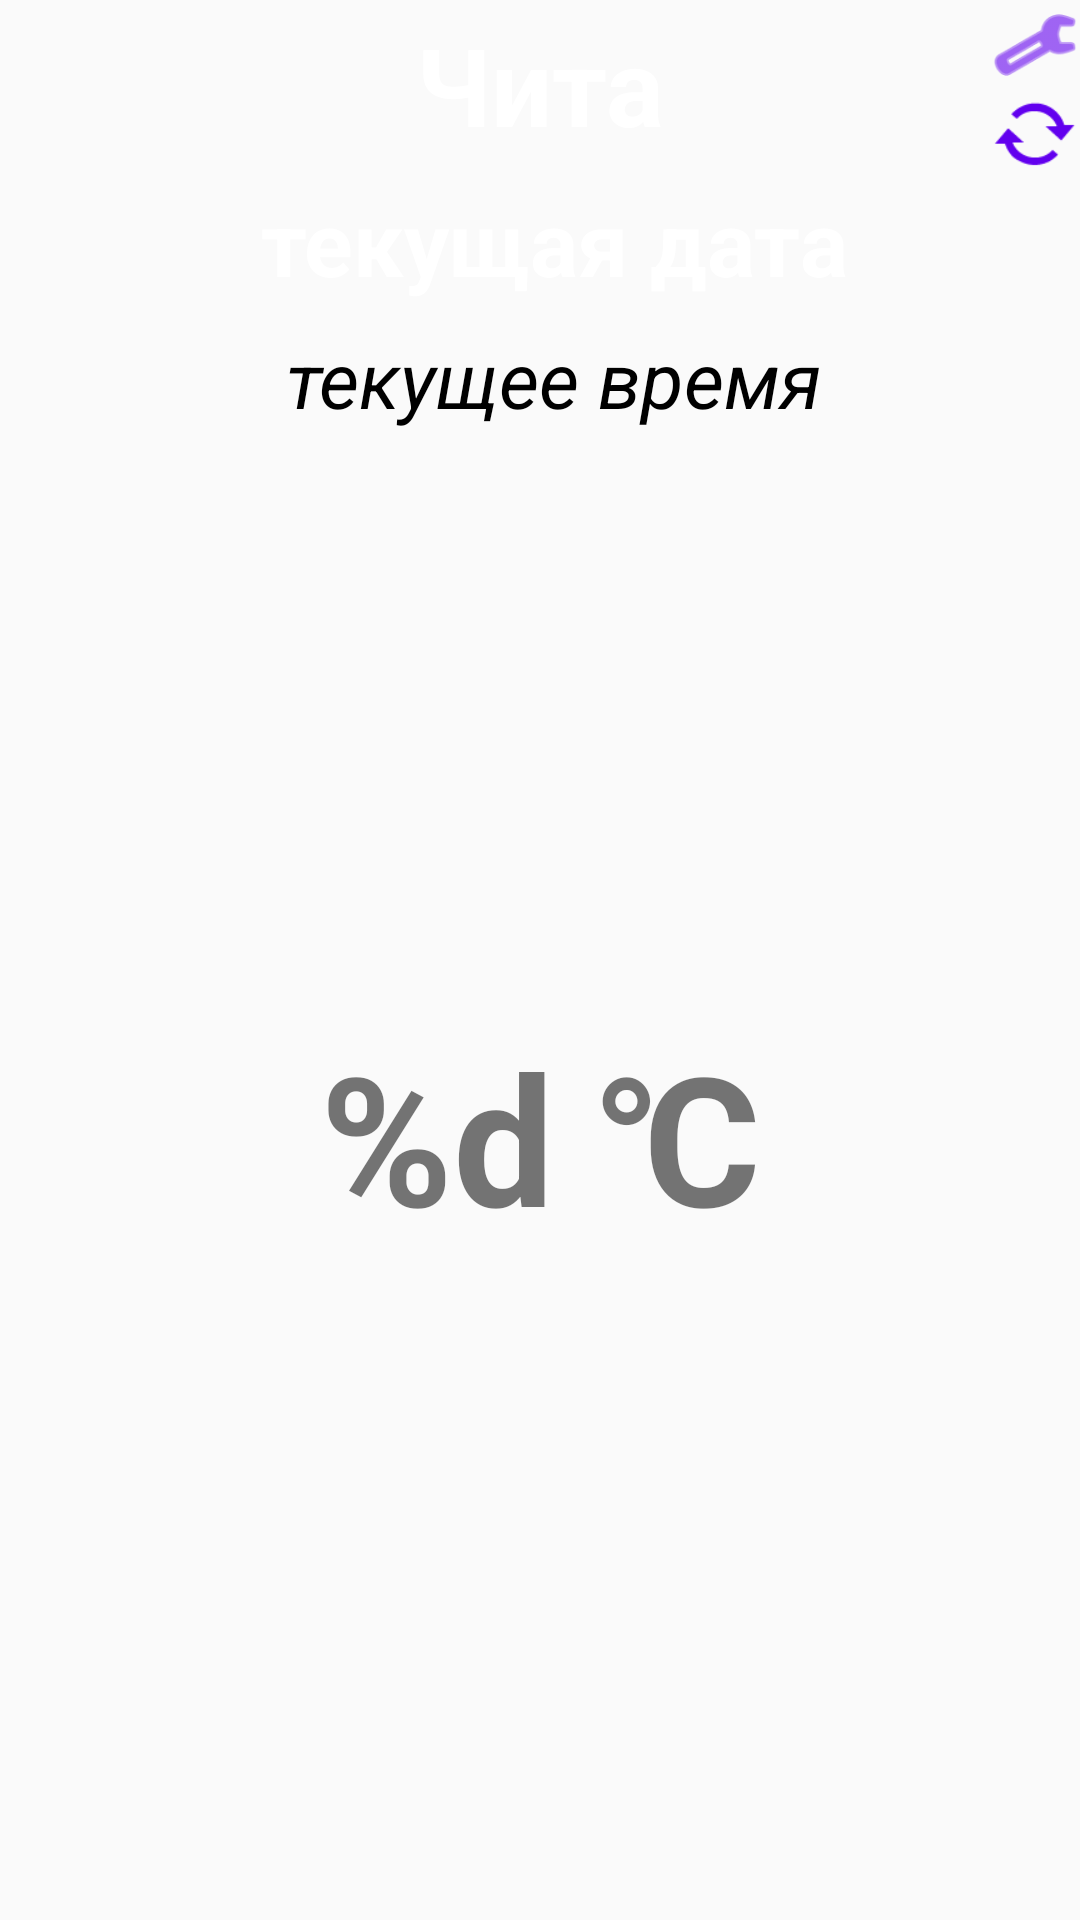

Where icons sit on this 1080px×1920px app screen, as (x1, y1, x2, y2):
manage: (994, 14, 1076, 76)
sync noanim: (995, 102, 1075, 166)
